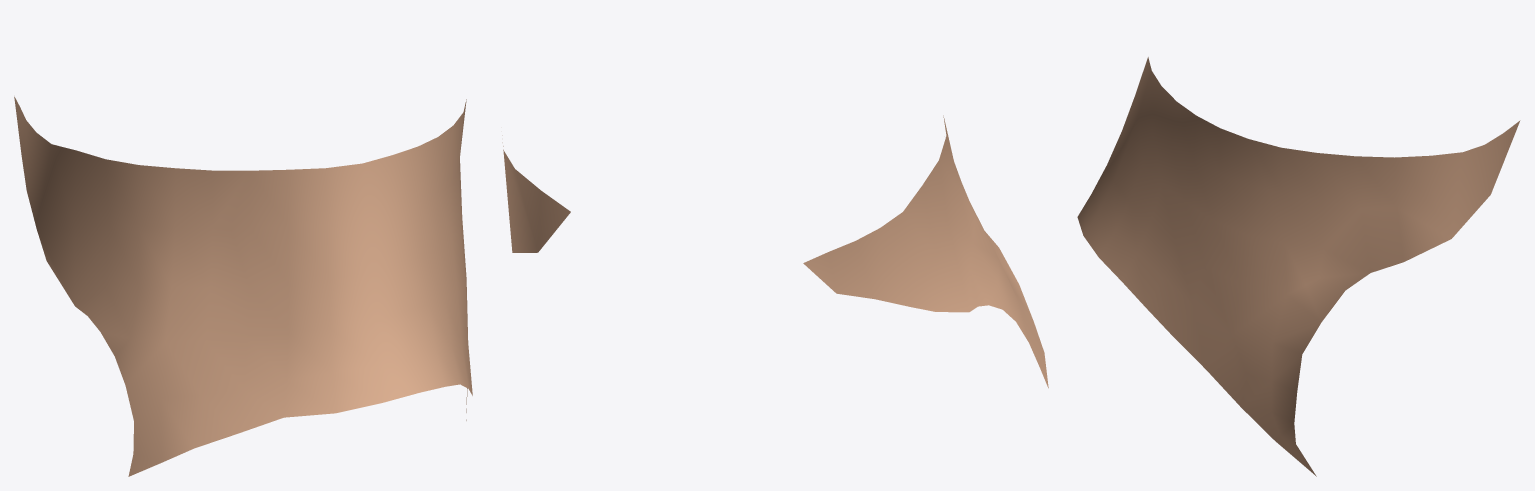
Rendered from anterior-region-of-ankle-l.glb.
3 views of the same model, side by side, from view 1: azimuth 30°, elevation 25°; view 2: azimuth 150°, elevation 25°; view 3: azimuth 270°, elevation 25° (orthographic). The views are drawn at different scales.
Parts seen in each view (by area): view 1: Anterior region of ankle.l; view 2: Anterior region of ankle.l; view 3: Anterior region of ankle.l.
Part boxes in pixels (box(x1,y1,x2,y2)): Anterior region of ankle.l: box(14, 96, 472, 476); Anterior region of ankle.l: box(502, 115, 1048, 388); Anterior region of ankle.l: box(1077, 57, 1520, 476).
Size of the model in its own units: 0.0701 by 0.0699 by 0.0809.
